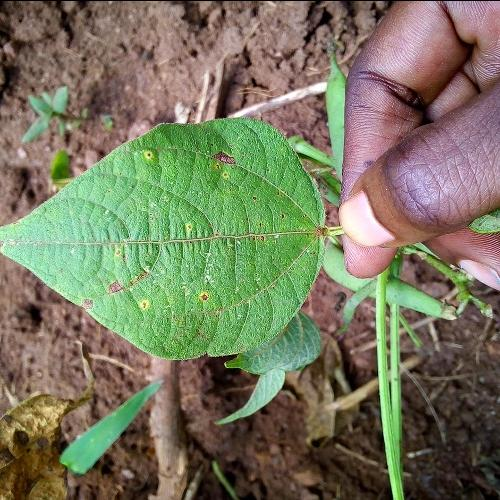hawar: (76, 244, 220, 335), (134, 148, 268, 195)
